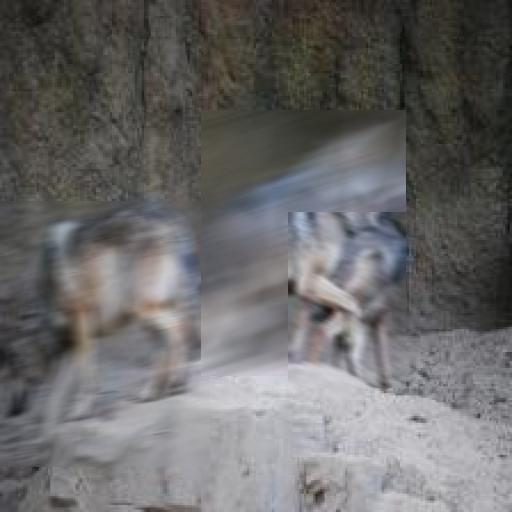wolf: (0, 201, 210, 467), (201, 110, 406, 376), (288, 212, 406, 388)
